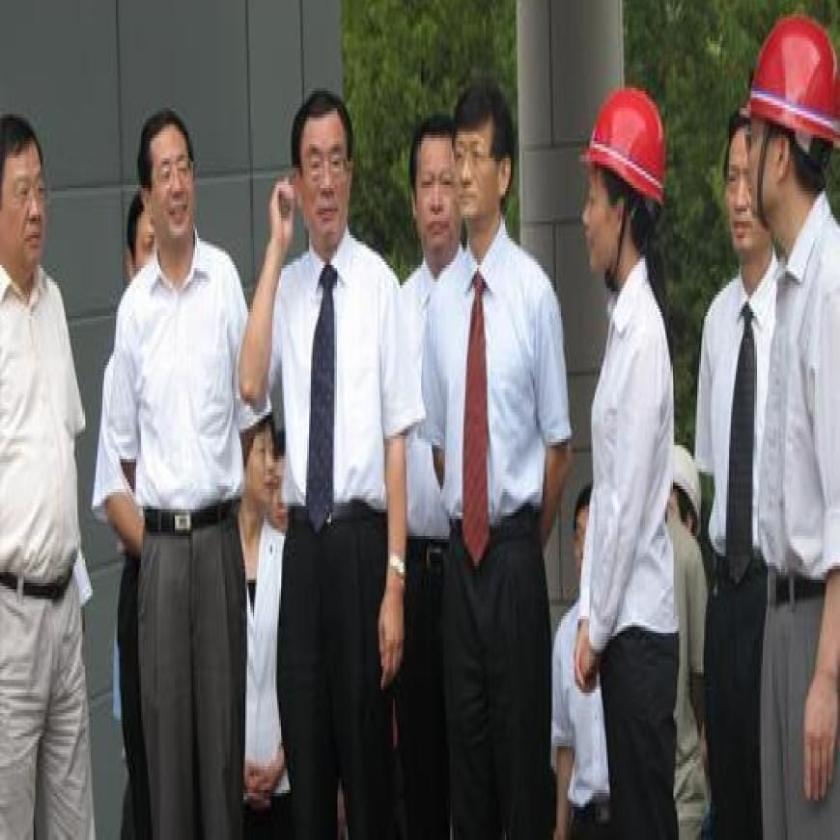Sin_casco: (288, 81, 359, 258), (451, 75, 516, 253), (135, 105, 201, 254), (724, 105, 776, 268), (0, 113, 50, 282), (409, 107, 458, 269), (237, 397, 275, 517), (126, 183, 160, 288)
